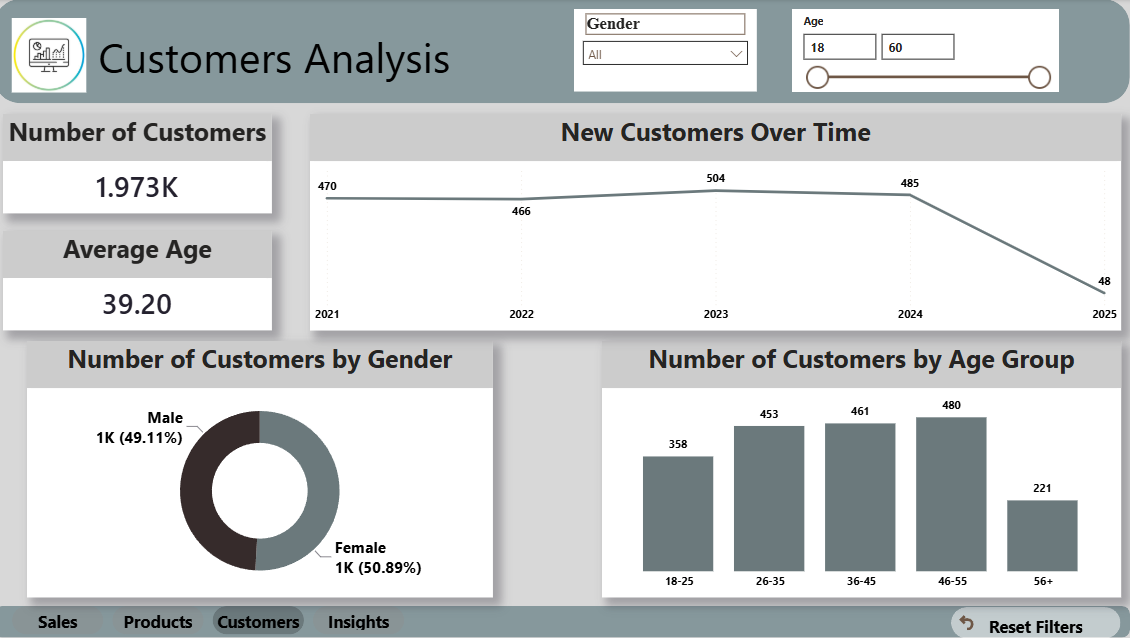

This screenshot's page, from the dashboard's own definition file:
{"tool":"powerbi","page":{"name":"Customers","canvas":[1280,720],"ordinal":2},"visuals":[{"type":"shape","box":[0,0,1279.8,117.6],"z":0},{"type":"cardVisual","title":"Number of Customers","fields":{"Data":["Count(Customers.CustomerID)"]},"box":[10.3,129.3,302.7,111.7],"z":1000},{"type":"cardVisual","title":"Average Age","fields":{"Data":["Customers.Average Age"]},"box":[10.3,261.6,302.7,111.7],"z":2000},{"type":"slicer","fields":{"Values":["Customers.Gender"]},"box":[653.9,11.8,205.7,92.6],"z":3000},{"type":"shape","box":[106,23.3,420.2,81.5],"z":4000},{"type":"shape","box":[0,684.4,1280,35.6],"z":5000},{"type":"pageNavigator","box":[20,684.4,445.6,32.2],"z":6000},{"type":"actionButton","box":[1078.5,684.7,191.1,35.6],"z":7000},{"type":"slicer","fields":{"Values":["Customers.Age"]},"box":[899.3,11.8,299.8,92.6],"z":8000},{"type":"columnChart","title":"Number of Customers by Age Group","fields":{"Category":["Customers.Age Group"],"Y":["Customers.Number of Customers"]},"box":[684.7,385,584.8,289.5],"z":10000},{"type":"donutChart","fields":{"Y":["Customers.Number of Customers"],"Category":["Customers.Gender"]},"box":[36.7,385,524.6,289.5],"z":11000},{"type":"lineChart","title":"New Customers Over Time","fields":{"Category":["Customers.Year","Customers.Quarter","Customers.Month Name"],"Y":["CountNonNull(Customers.JoinDate)"]},"box":[355.6,129.3,914,243.9],"z":12000},{"type":"image","box":[0,21.8,124.6,84.1],"z":12001}]}

Visuals, with their boxes in screenshot pixels (x1, y1, x2, y2), scaled from the page's 1280x720 canvas onto the 1130x638 screenshot:
shape: x1=0, y1=0, x2=1129, y2=104
"Number of Customers" cardVisual: x1=9, y1=115, x2=276, y2=214
"Average Age" cardVisual: x1=9, y1=232, x2=276, y2=331
slicer - Customers.Gender: x1=577, y1=10, x2=759, y2=93
shape: x1=94, y1=21, x2=465, y2=93
shape: x1=0, y1=606, x2=1129, y2=637
pageNavigator: x1=18, y1=606, x2=411, y2=635
actionButton: x1=952, y1=607, x2=1121, y2=637
slicer - Customers.Age: x1=794, y1=10, x2=1059, y2=93
"Number of Customers by Age Group" columnChart: x1=604, y1=341, x2=1121, y2=598
donutChart - Customers.Number of Customers x Customers.Gender: x1=32, y1=341, x2=496, y2=598
"New Customers Over Time" lineChart: x1=314, y1=115, x2=1121, y2=331
image: x1=0, y1=19, x2=110, y2=94
